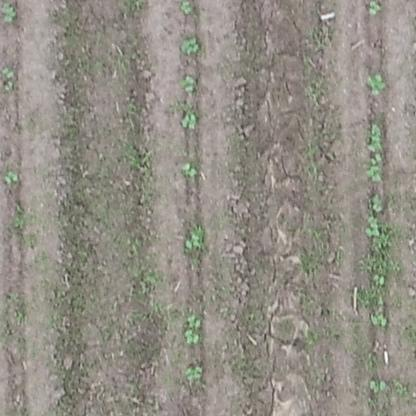vc: (366, 70, 389, 98), (177, 34, 203, 56), (366, 121, 383, 153), (180, 362, 206, 382), (181, 230, 202, 252), (179, 110, 199, 131), (369, 375, 388, 395), (366, 166, 387, 184), (366, 216, 381, 241), (1, 2, 18, 24), (179, 72, 196, 94), (371, 311, 391, 328), (370, 192, 385, 213), (181, 161, 199, 178), (366, 1, 383, 18), (3, 169, 19, 185), (186, 312, 203, 327), (183, 331, 201, 345), (371, 271, 387, 286), (179, 2, 195, 15), (2, 67, 14, 79)
